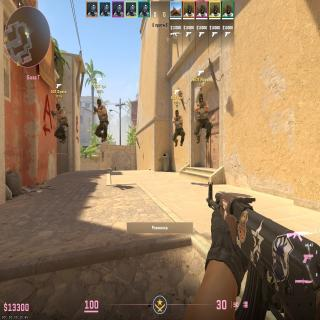T-Body: (194, 93, 212, 139), (55, 103, 69, 142), (95, 99, 108, 138), (172, 110, 185, 144)
T-Head: (198, 94, 204, 102), (97, 98, 102, 107), (56, 103, 61, 110), (175, 110, 179, 116)
